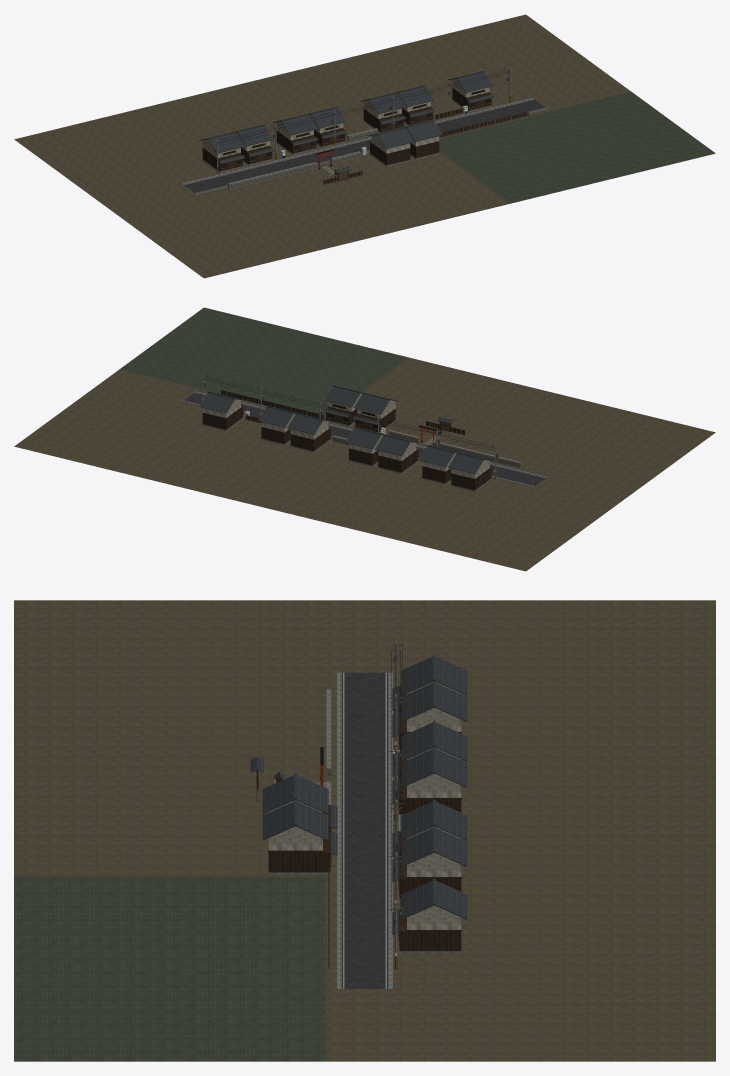
The model's file is street.glb.
The picture shows the model from 3 angles, top to bottom: view 1: azimuth 30°, elevation 25°; view 2: azimuth 150°, elevation 25°; view 3: azimuth 270°, elevation 25°; orthographic projection. The views are drawn at different scales.
Visible parts, largest first — view 1: ground, machiya.014, machiya.012, machiya.018, machiya.016, machiya.039, machiya.013, machiya.017, machiya.015, machiya.040, power_lines, road.000 (+1 smaller); view 2: ground, machiya.018, machiya.014, machiya.016, machiya.012, machiya.039, machiya.040, machiya.015, machiya.017, machiya.013, power_lines, road.000; view 3: ground, machiya.040, machiya.018, machiya.015, machiya.017, machiya.013, machiya.039, machiya.016, machiya.012, machiya.014, road.010, road.011 (+11 smaller).
Boxes of the visible parts, left/top/right/bottom form: ground: left=14, top=14, right=715, bottom=278; machiya.014: left=272, top=113, right=318, bottom=154; machiya.012: left=199, top=131, right=245, bottom=172; machiya.018: left=448, top=70, right=493, bottom=112; machiya.016: left=360, top=92, right=406, bottom=132; machiya.039: left=367, top=127, right=413, bottom=166; machiya.013: left=235, top=124, right=274, bottom=165; machiya.017: left=396, top=85, right=435, bottom=125; machiya.015: left=308, top=106, right=347, bottom=147; machiya.040: left=405, top=119, right=442, bottom=159; power_lines: left=218, top=69, right=510, bottom=144; road.000: left=182, top=176, right=225, bottom=194; ground: left=14, top=307, right=715, bottom=571; machiya.018: left=199, top=391, right=245, bottom=430; machiya.014: left=375, top=434, right=420, bottom=473; machiya.016: left=287, top=412, right=332, bottom=452; machiya.012: left=448, top=452, right=493, bottom=491; machiya.039: left=353, top=392, right=398, bottom=432; machiya.040: left=323, top=385, right=362, bottom=426; machiya.015: left=345, top=427, right=383, bottom=466; machiya.017: left=258, top=405, right=295, bottom=445; machiya.013: left=419, top=445, right=456, bottom=484; power_lines: left=202, top=374, right=497, bottom=450; road.000: left=504, top=469, right=547, bottom=487; ground: left=14, top=600, right=715, bottom=1061; machiya.040: left=262, top=799, right=337, bottom=874; machiya.018: left=392, top=879, right=467, bottom=953; machiya.015: left=392, top=747, right=467, bottom=814; machiya.017: left=392, top=826, right=467, bottom=900; machiya.013: left=392, top=681, right=467, bottom=752; machiya.039: left=262, top=773, right=337, bottom=831; machiya.016: left=392, top=799, right=467, bottom=857; machiya.012: left=392, top=654, right=467, bottom=712; machiya.014: left=392, top=720, right=467, bottom=778; road.010: left=337, top=935, right=392, bottom=962; road.011: left=337, top=961, right=392, bottom=988.
Size of the model in its own units: 140 by 9.1 by 90.
Materials: 20 (20 with a texture image).
